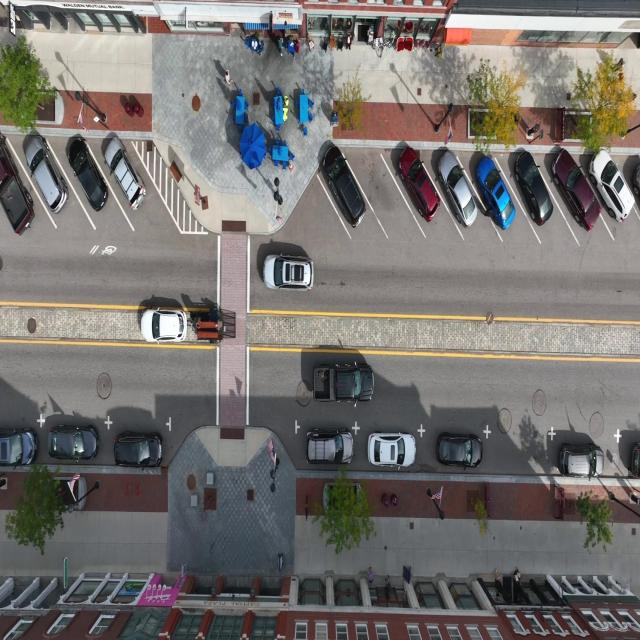Car: (552, 149, 602, 230), (23, 135, 69, 216), (320, 143, 364, 226), (358, 424, 424, 479), (1, 130, 36, 233), (589, 148, 635, 222), (67, 136, 109, 212), (104, 134, 146, 210), (475, 152, 515, 228), (514, 150, 554, 226), (438, 149, 476, 227), (398, 147, 436, 223), (313, 362, 371, 401), (48, 424, 100, 461), (262, 255, 314, 291), (114, 431, 164, 468), (305, 428, 353, 464), (437, 432, 482, 470), (559, 443, 605, 479), (141, 308, 188, 343), (0, 428, 38, 467), (53, 476, 88, 512), (627, 439, 640, 476)
